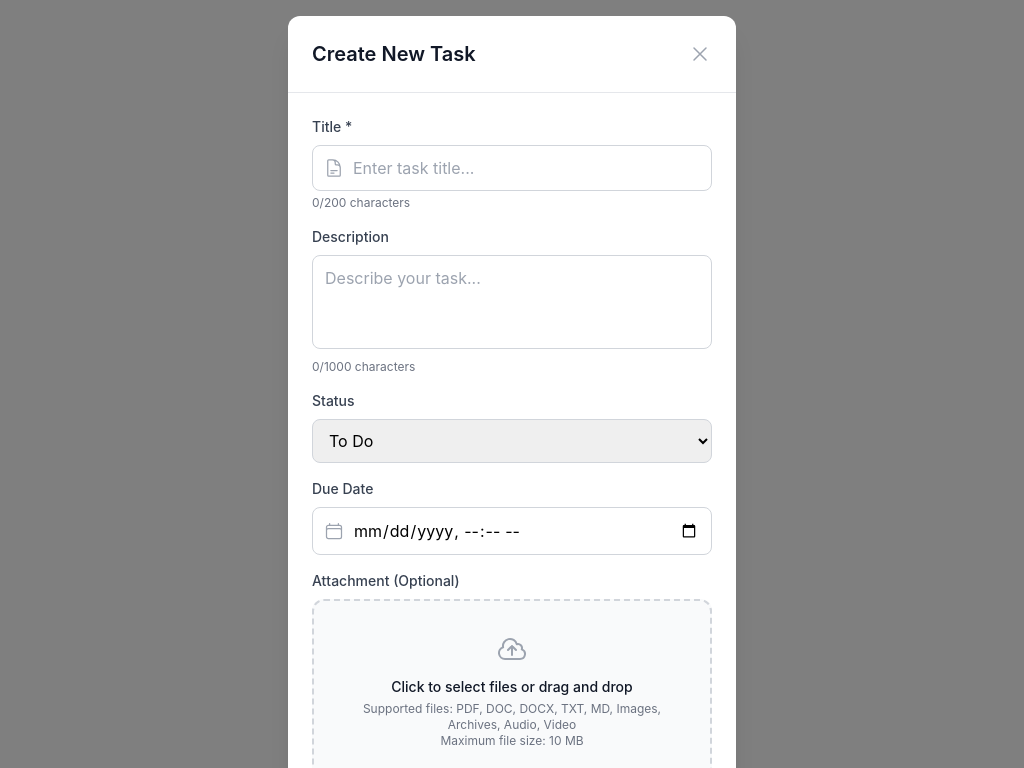
Test: TaskForm Component › updates character count as user types
// Focus the input and type directly
Click the field with placeholder "Enter task title..." at (512, 168), box [312,145,712,191]
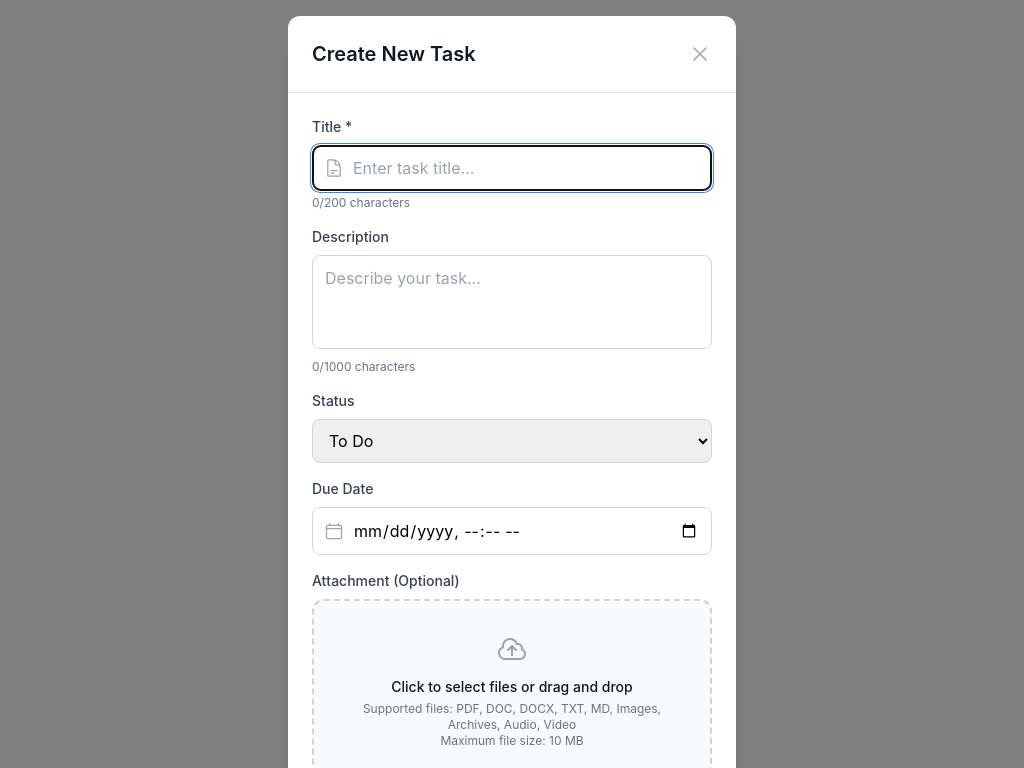
Type keys "{Control>}a{/Control}"
Type keys "Test"
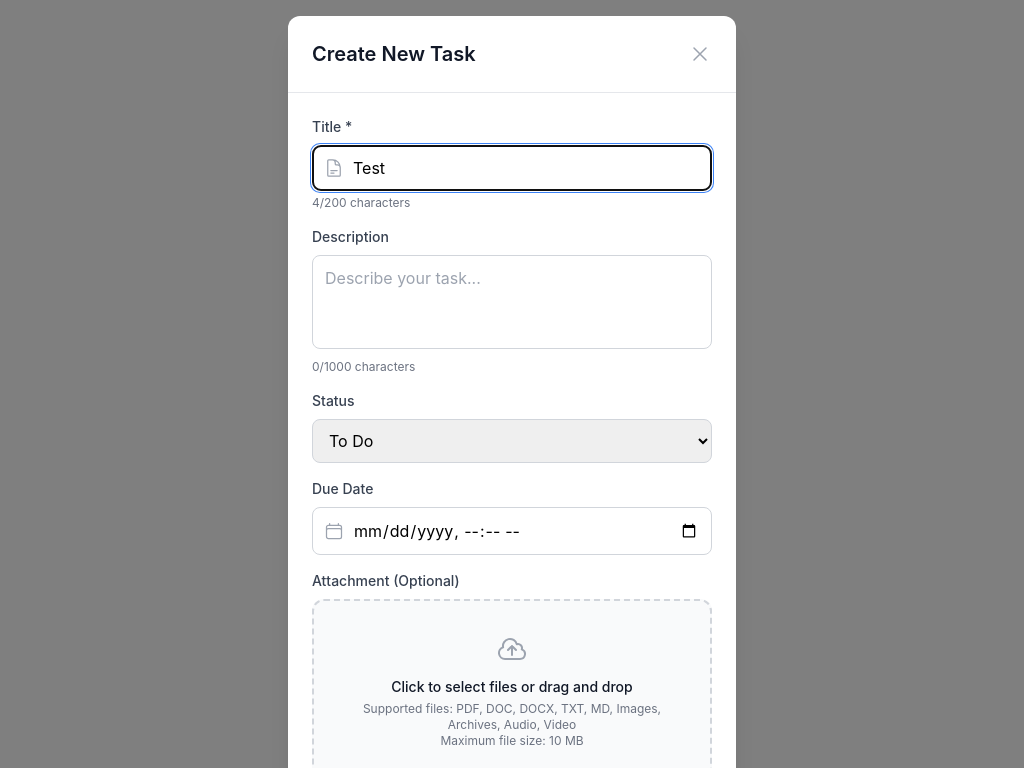
Now the text "4/200 characters" is shown, box [312,195,410,210]
